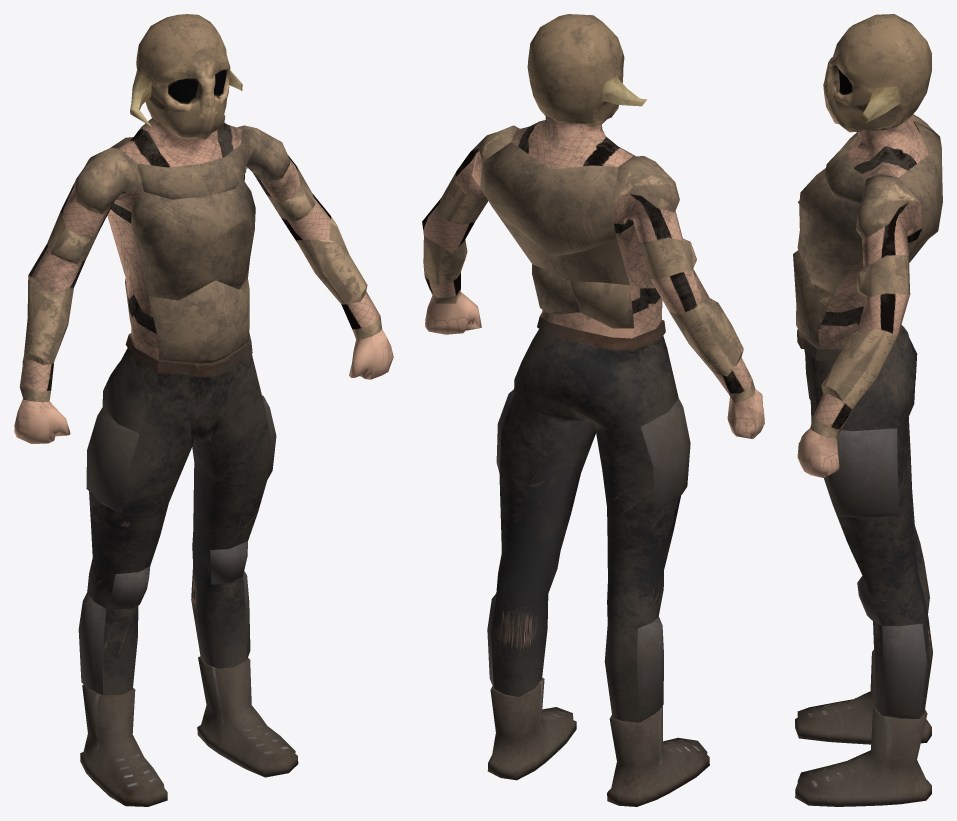
File: Anim_idle_npc1.0049.obj
3 views of the same model, side by side, from view 1: azimuth 30°, elevation 25°; view 2: azimuth 150°, elevation 25°; view 3: azimuth 270°, elevation 25° (orthographic).
Visible parts, largest first — view 1: NPC2; view 2: NPC2; view 3: NPC2.
Boxes of the visible parts, x1,y1,x2,y2 form: NPC2: [14, 14, 393, 806]; NPC2: [422, 14, 764, 806]; NPC2: [793, 14, 942, 806].
Size of the model in its own units: 4.8 by 9.67 by 1.75.
